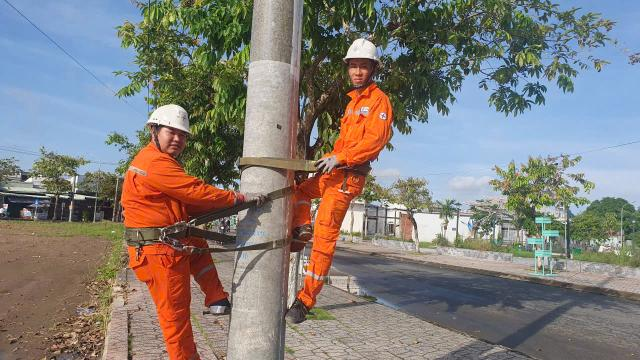gloves: (312, 145, 340, 176), (243, 185, 271, 211)
harness: (102, 212, 241, 262), (293, 150, 375, 185)
helmet: (135, 95, 206, 134), (347, 36, 395, 71)
shoes: (271, 288, 314, 328), (274, 219, 314, 253), (202, 290, 232, 321)
